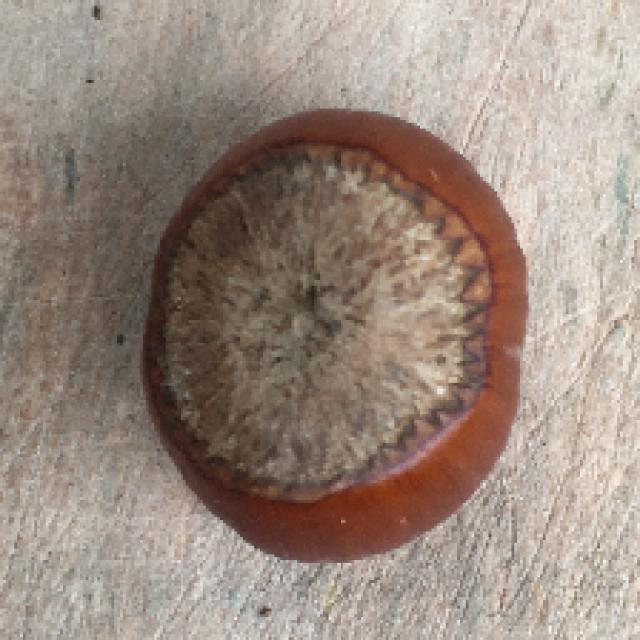qualityHazelnut: (140, 101, 531, 564)
